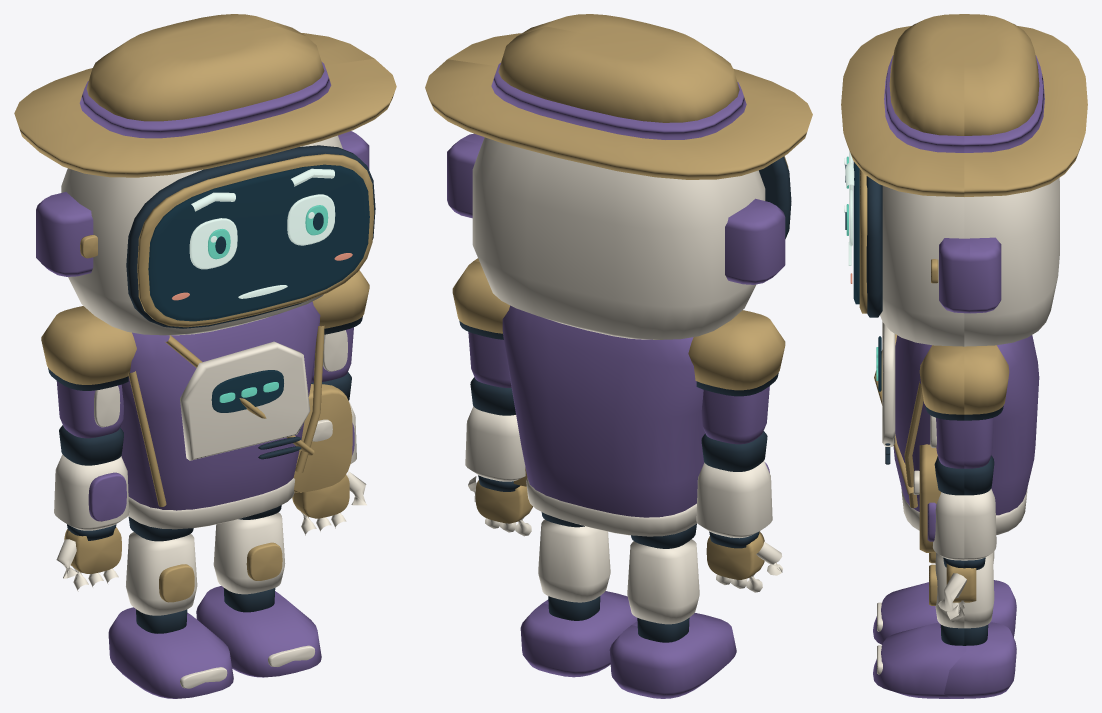
Rendered from museum-balanced.glb.
3 views of the same model, side by side, from view 1: azimuth 30°, elevation 25°; view 2: azimuth 150°, elevation 25°; view 3: azimuth 270°, elevation 25° (orthographic).
Parts seen in each view (by area): view 1: visor-rim, torso-enamel, face-display, lower-shell, head-hull, ear-housing--1, collar-lip, shoulder-cap--1, leg-armor--1, visor-gasket, leg-armor-1, forearm-shell--1 (+18 smaller); view 2: torso-enamel, head-hull, visor-rim, ear-housing--1, shoulder-cap--1, leg-armor--1, leg-armor-1, forearm-shell--1, forearm-shell-1, lower-shell, upper-arm--1, shoulder-cap-1 (+9 smaller); view 3: visor-rim, torso-enamel, head-hull, ear-housing--1, shoulder-cap-1, forearm-shell-1, lower-shell, collar-lip, upper-arm-1, leg-armor-1, visor-gasket, elbow-1 (+5 smaller).
Part boxes in pixels (<box>): visor-rim: <box>14,14,396,327</box>; torso-enamel: <box>108,301,321,698</box>; face-display: <box>148,164,369,321</box>; lower-shell: <box>128,341,332,688</box>; head-hull: <box>61,135,342,335</box>; ear-housing--1: <box>36,62,369,276</box>; collar-lip: <box>128,325,352,506</box>; shoulder-cap--1: <box>41,306,136,384</box>; leg-armor--1: <box>126,532,197,615</box>; visor-gasket: <box>126,145,375,328</box>; leg-armor-1: <box>213,512,285,594</box>; forearm-shell--1: <box>54,454,129,530</box>; torso-enamel: <box>502,305,736,698</box>; head-hull: <box>472,137,765,339</box>; visor-rim: <box>425,14,812,179</box>; ear-housing--1: <box>447,63,785,284</box>; shoulder-cap--1: <box>688,310,785,390</box>; leg-armor--1: <box>627,539,699,624</box>; leg-armor-1: <box>538,519,610,602</box>; forearm-shell--1: <box>696,461,772,538</box>; forearm-shell-1: <box>465,406,525,481</box>; lower-shell: <box>526,478,697,536</box>; upper-arm--1: <box>701,386,769,444</box>; shoulder-cap-1: <box>452,258,509,333</box>; visor-rim: <box>841,14,1087,313</box>; torso-enamel: <box>873,335,1039,698</box>; head-hull: <box>880,178,1059,346</box>; ear-housing--1: <box>884,55,1044,313</box>; shoulder-cap-1: <box>919,345,1009,414</box>; forearm-shell-1: <box>933,489,996,560</box>; lower-shell: <box>877,321,1027,674</box>; collar-lip: <box>874,334,941,552</box>; upper-arm-1: <box>936,417,993,468</box>; leg-armor-1: <box>935,553,994,628</box>; visor-gasket: <box>866,176,882,317</box>; elbow-1: <box>934,455,994,569</box>.
Size of the model in its own units: 1.04 by 1.81 by 0.66.
